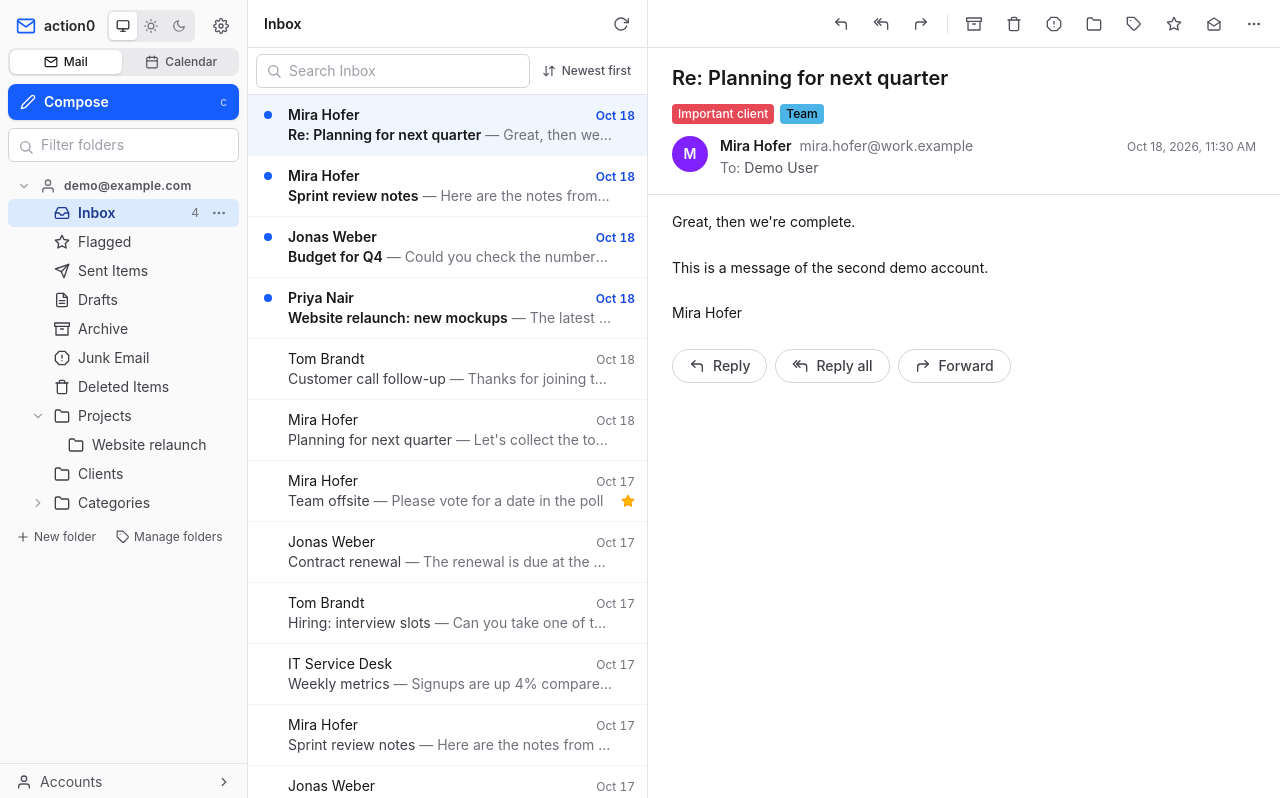
Test: Outlook categories › applies them with l when the picker closes, and z takes them off
Type keys "l"
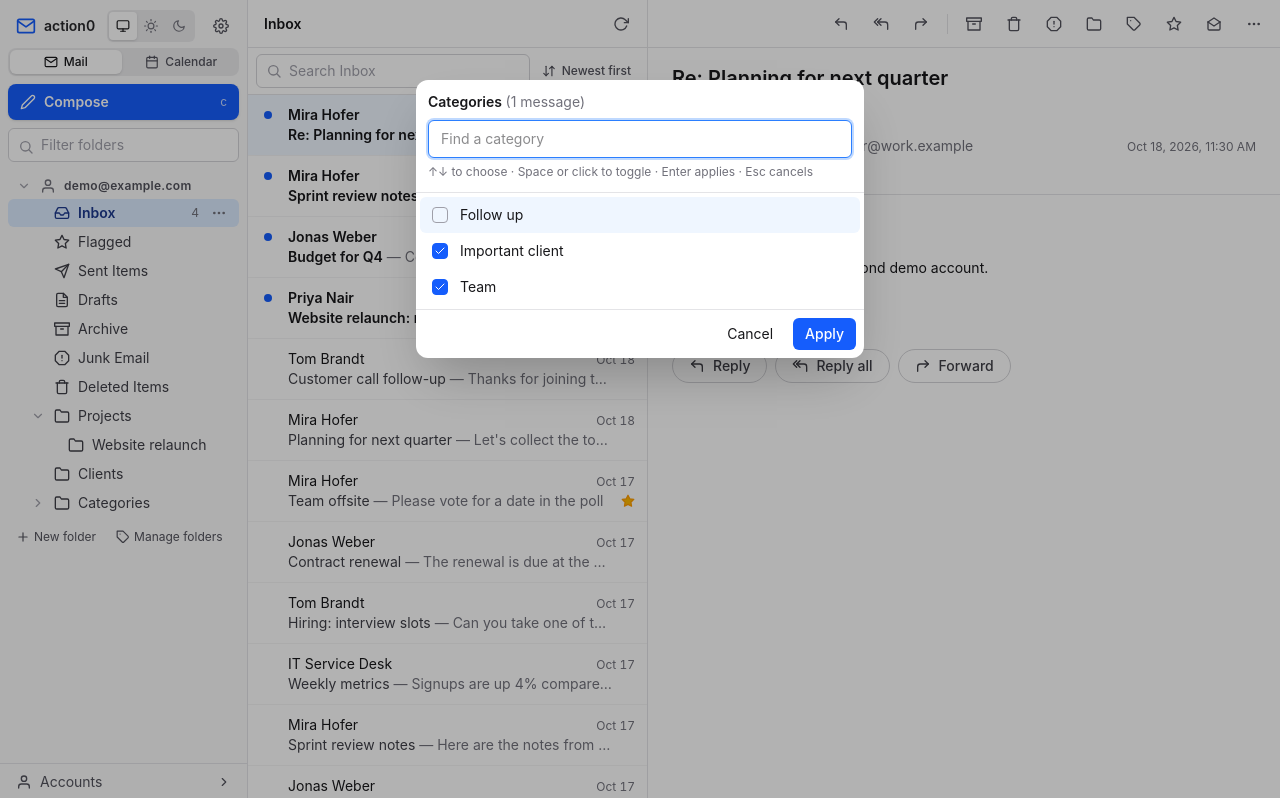
Now the options read "Follow up", "Important client", "Team", in this order
Click the option "Follow up": (492, 214) [420,197,860,233]
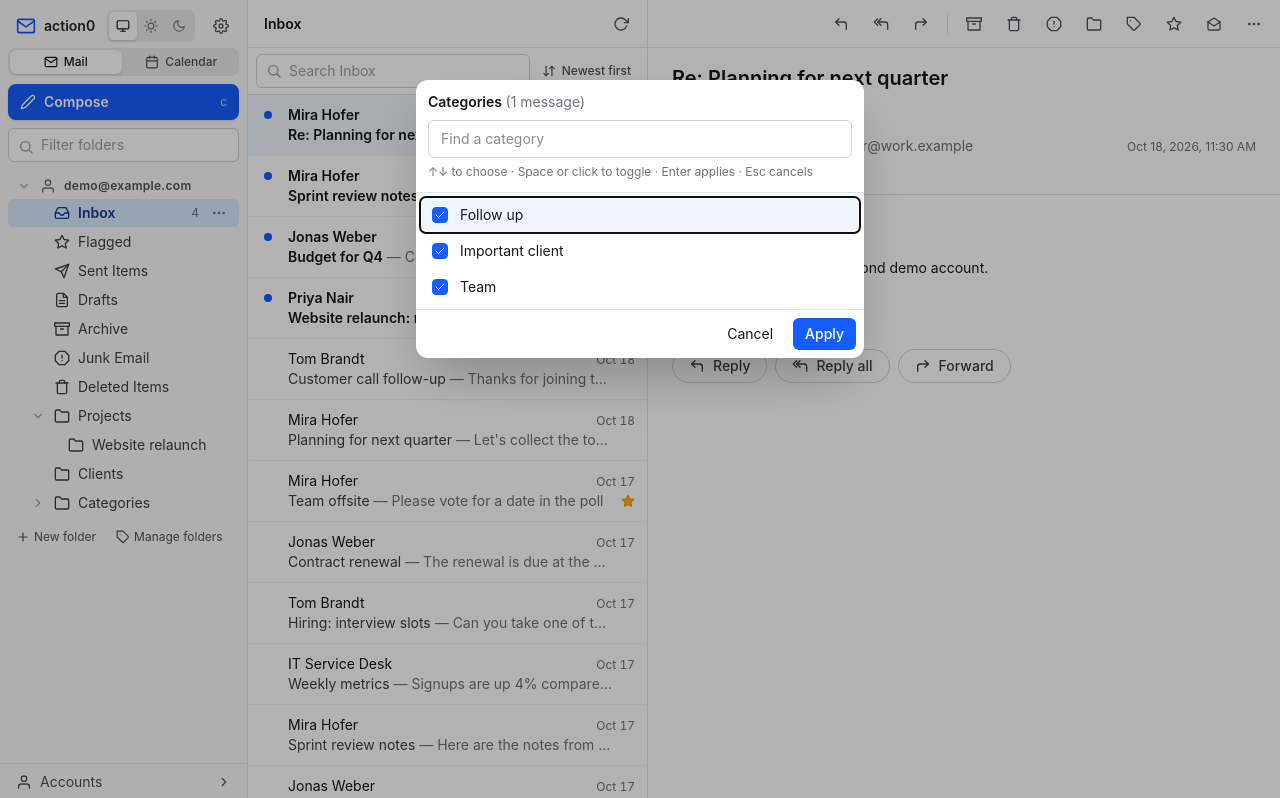
Click the button "Apply": (825, 334) [793,318,856,350]
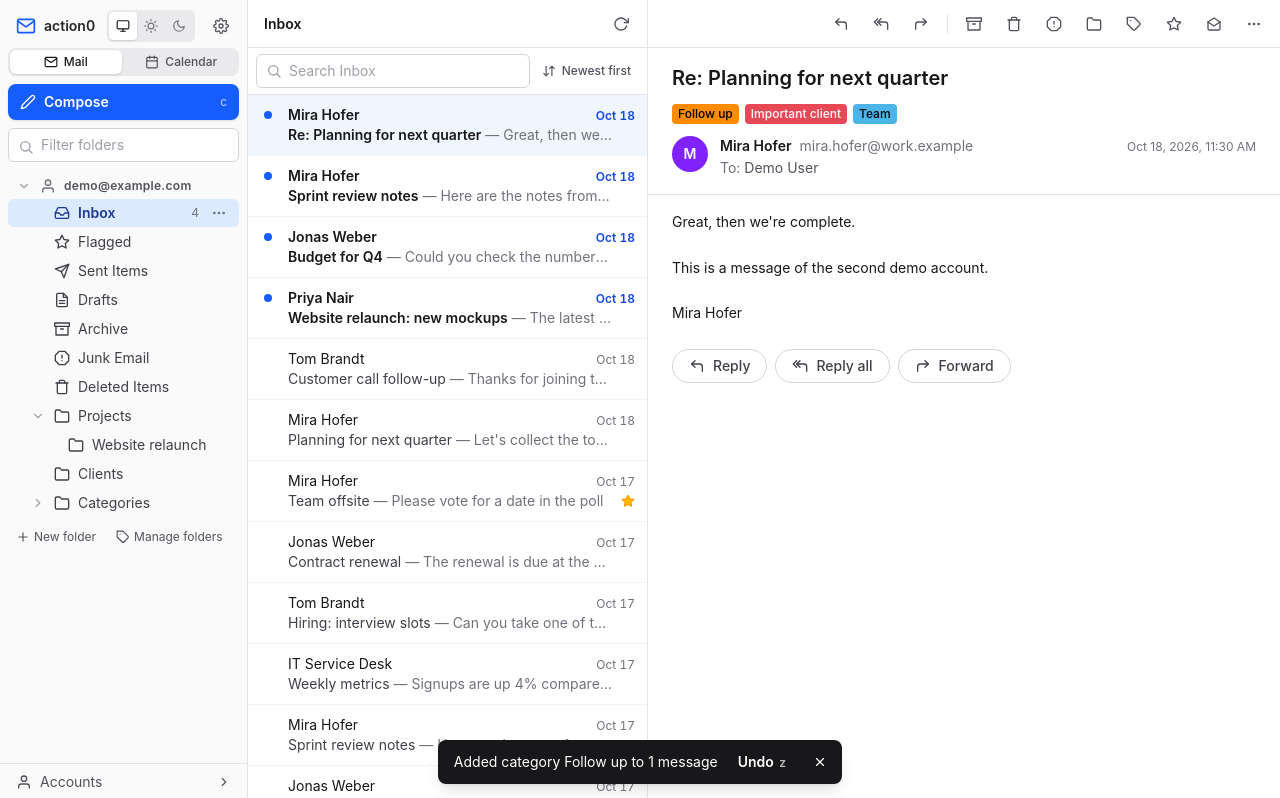
Now the list item "Follow up" is shown, box [672,104,739,124]
Now the text "Added category Follow up to 1 message" is shown, box [454,752,718,772]
Type keys "z"
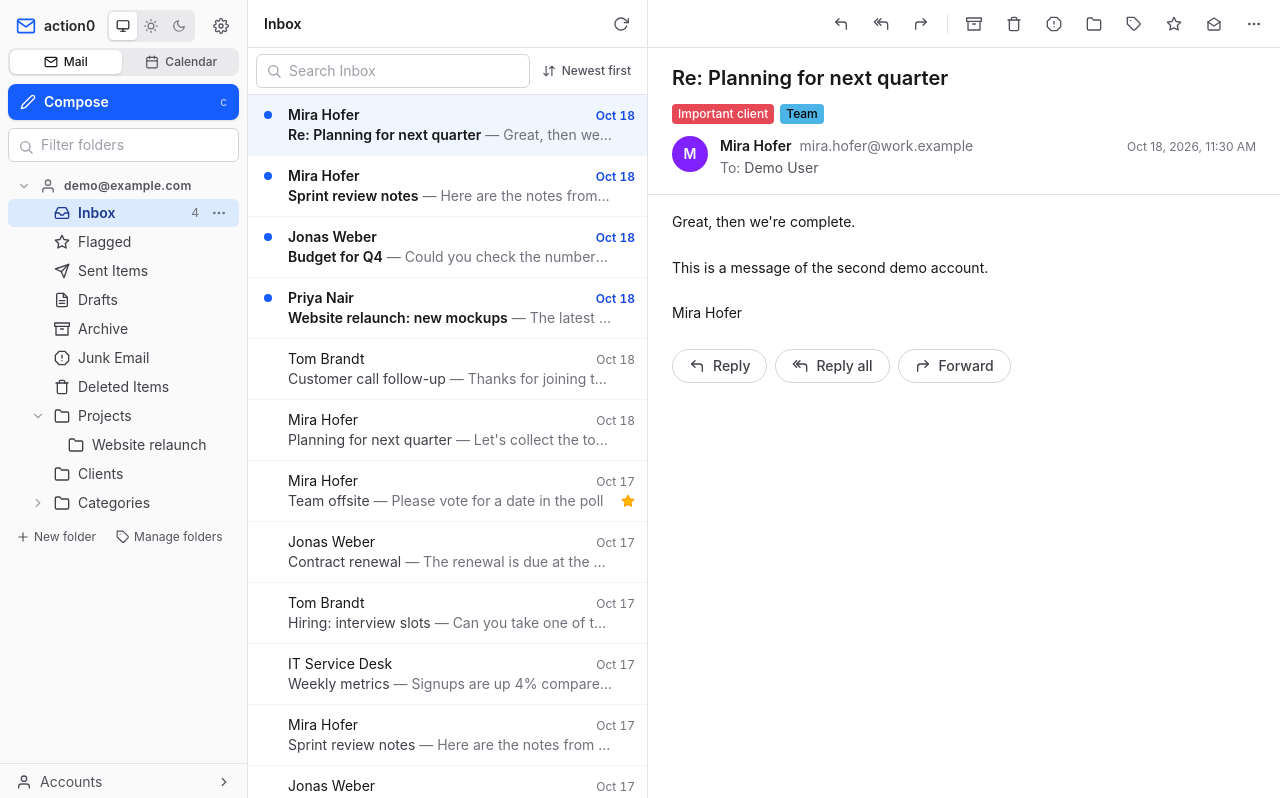
Expected: the heading "Re: Planning for next quarter" is shown, [672,66,948,90]
Now the list item "Follow up" no longer shows "Follow up"
